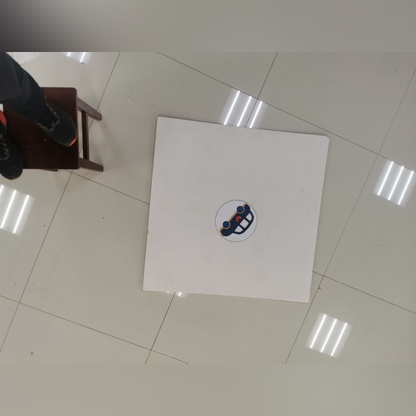car: (219, 184, 260, 243)
